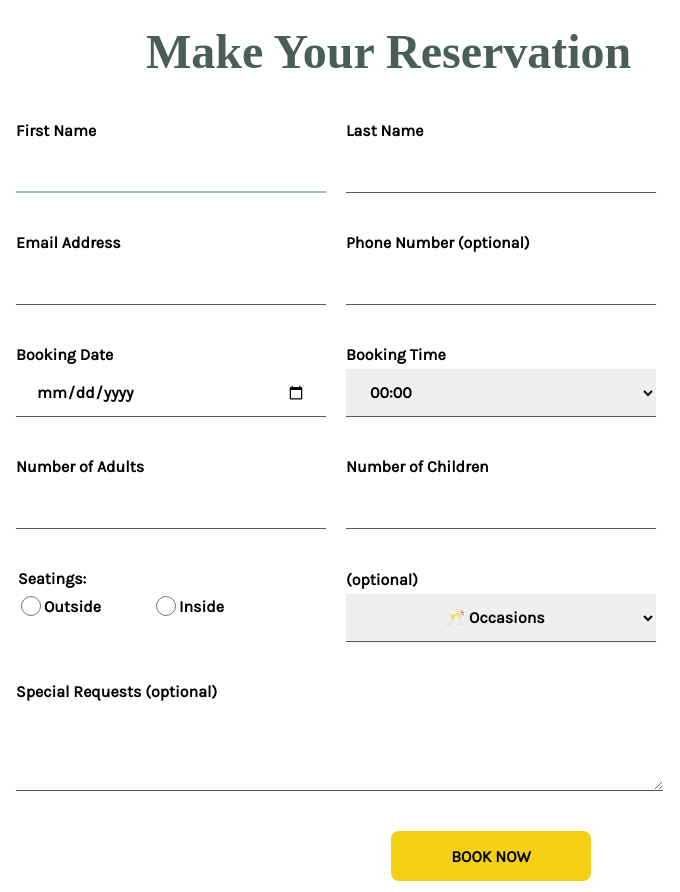
Test: Booking Form › should show error message for Special Requests input whe the number of characters exceeds 200.
Type "Lorem ipsum dolor sit amet, consectetur adipiscing elit. Vestibulum vitae enim tempus turpis ultricies condimentum nec ac felis. Integer facilisis sodales nibh, vitae gravida libero consectetur sed. M" into the text box labelled "Special Requests (optional)" at (340, 749), box left=16, top=706, right=663, bottom=791
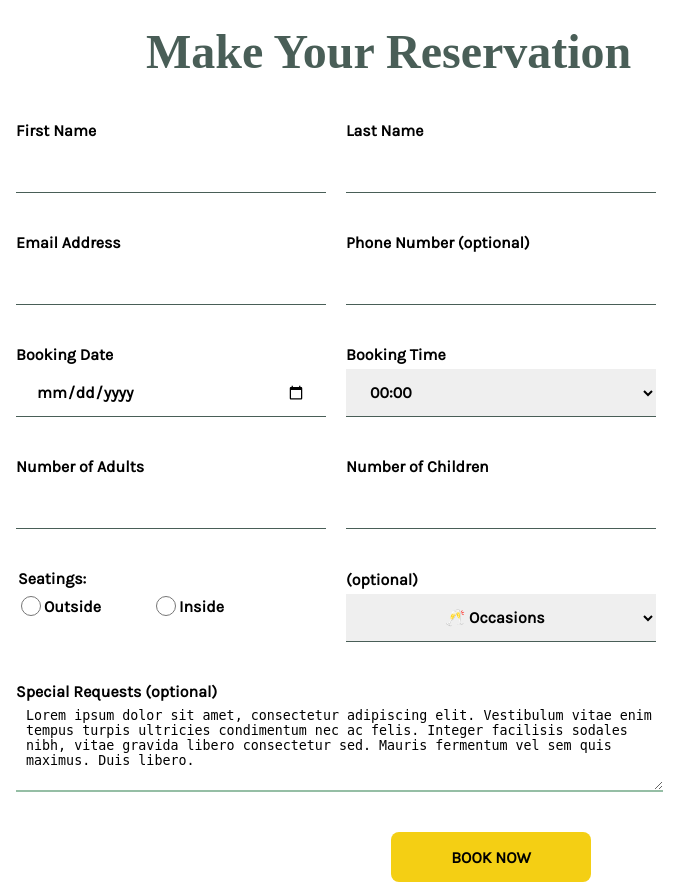
Click the button "BOOK NOW" at (491, 857), box left=391, top=832, right=591, bottom=882
(page scrolled)
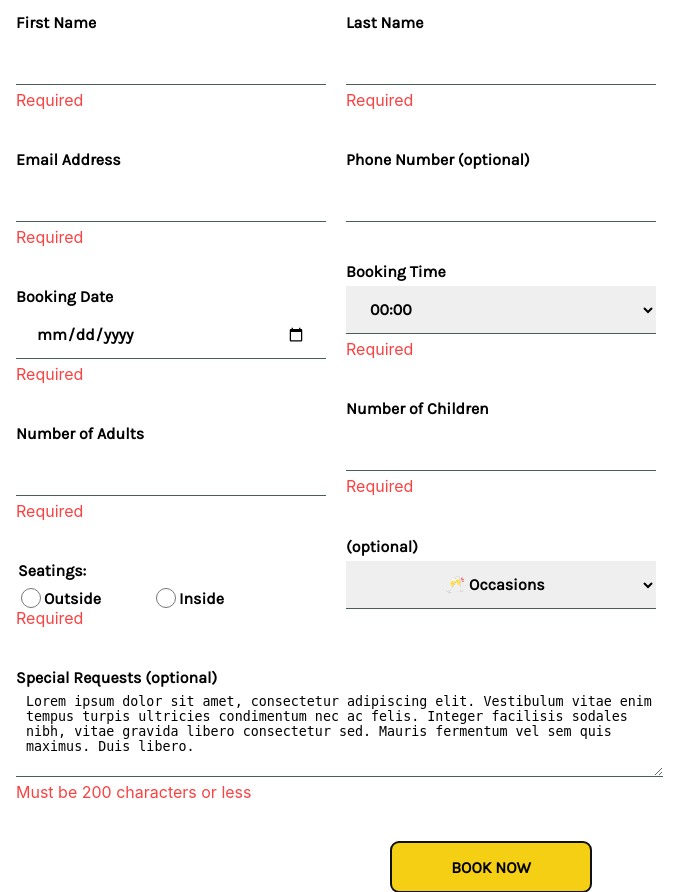
Result: the text with id "requests-error" reads "Must be 200 characters or less" at left=16, top=782, right=252, bottom=802
